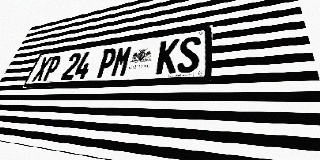2: (60, 52, 83, 80)
4: (72, 50, 95, 79)
K: (155, 39, 180, 75)
M: (110, 45, 134, 77)
P: (95, 47, 118, 78), (41, 55, 63, 81)
S: (176, 36, 201, 73)
X: (31, 56, 53, 82)
